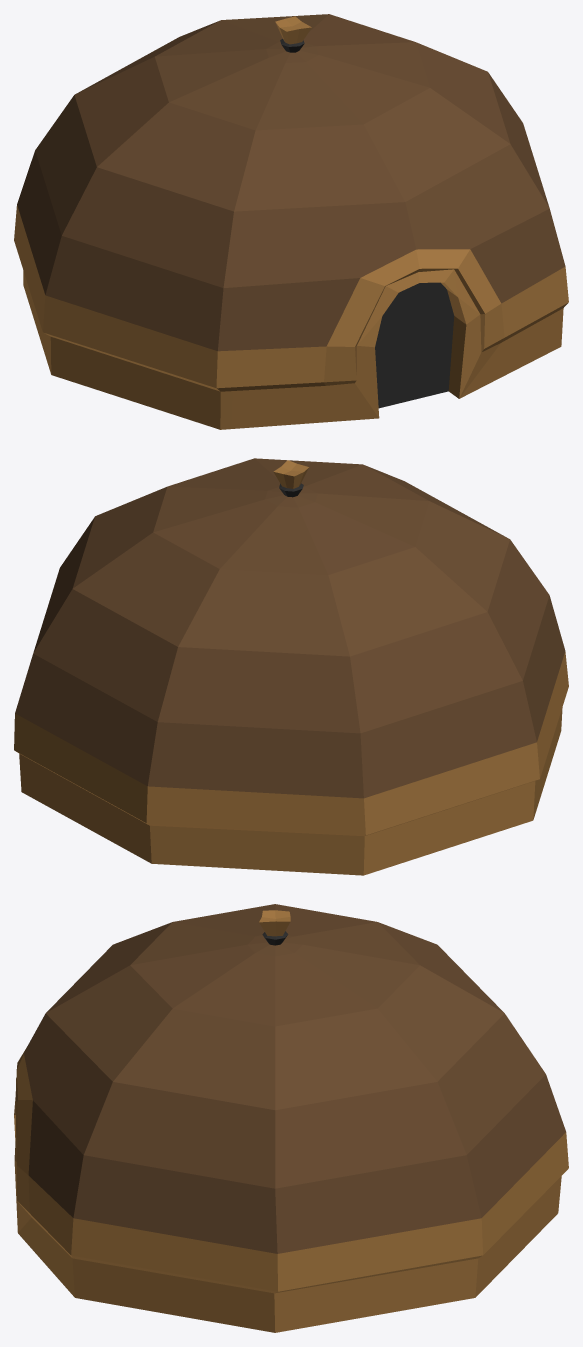
Rendered from zulu_zulu-iqukwane.fbx.
3 renders of one model, top to bottom at view 1: azimuth 30°, elevation 25°; view 2: azimuth 150°, elevation 25°; view 3: azimuth 270°, elevation 25°, orthographic.
Visible parts, largest first — view 1: zulu_zulu_iqukwane; view 2: zulu_zulu_iqukwane; view 3: zulu_zulu_iqukwane.
Part boxes in pixels (x1,y1,x2,y2): zulu_zulu_iqukwane: (14, 14, 568, 429); zulu_zulu_iqukwane: (14, 458, 568, 875); zulu_zulu_iqukwane: (14, 904, 568, 1332).
Bounding box in the file's own units: 200 × 112 × 190.
